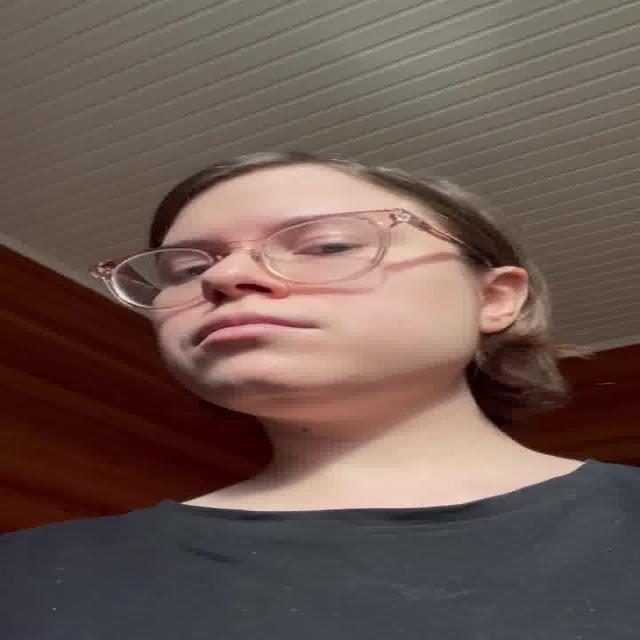earlobe: (478, 266, 528, 334)
